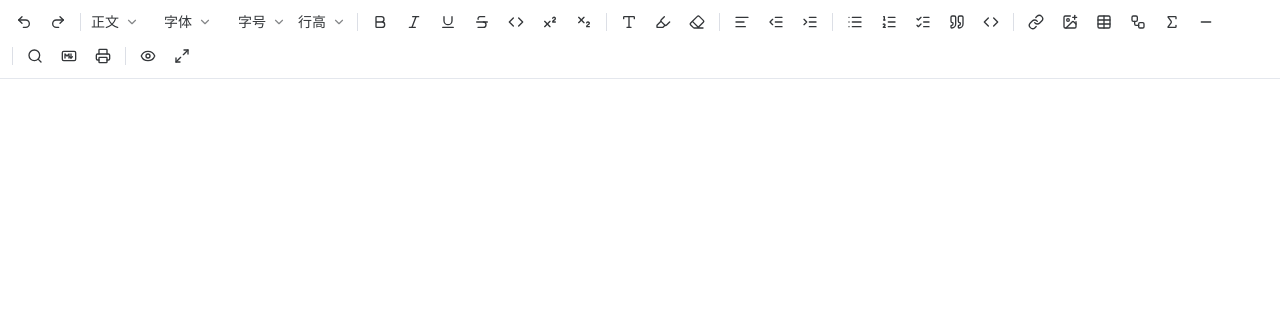
Scenario: Naive Toolbar › 标题下拉菜单会显示 H1-H6 对应的预览字号
The width and height of the screenshot is (1280, 320).
Click the button with aria-label "标题": {"x": 115, "y": 22} [87,6,143,38]
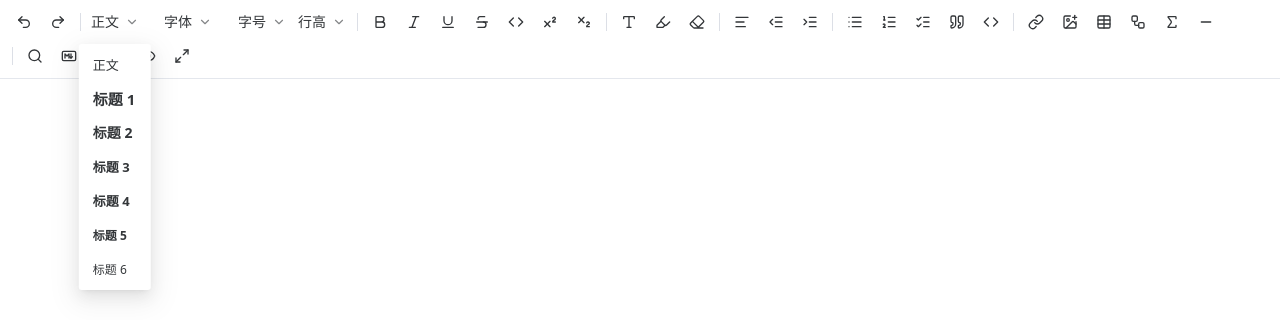
Now the text "标题 1" is shown, box [93,89,135,109]
Now the text "标题 6" is shown, box [93,261,127,278]
